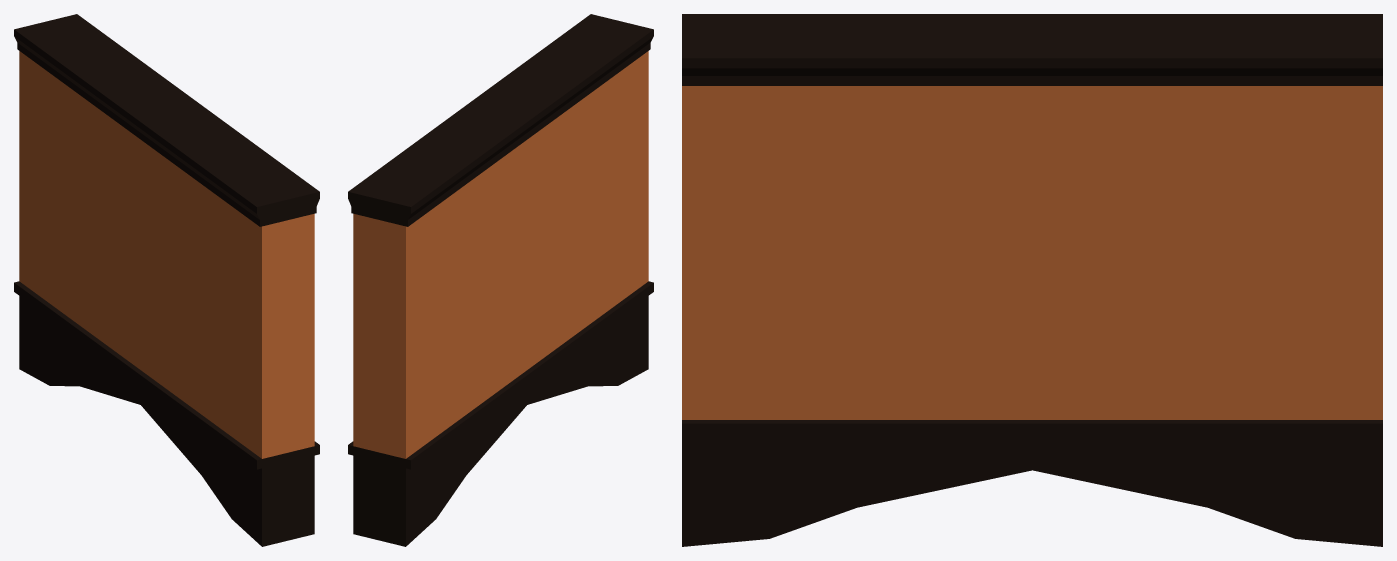
File: UpEntranceDoor_Final.fbx
3 renders of one model, left to right at view 1: azimuth 30°, elevation 25°; view 2: azimuth 150°, elevation 25°; view 3: azimuth 270°, elevation 25°, orthographic. The views are drawn at different scales.
Parts seen in each view (by area): view 1: S_WallEmpty.004; view 2: S_WallEmpty.004; view 3: S_WallEmpty.004.
Part boxes in pixels (box(x1,y1,x2,y2)): S_WallEmpty.004: box(14, 14, 319, 546); S_WallEmpty.004: box(348, 14, 653, 546); S_WallEmpty.004: box(682, 14, 1382, 546).
Bounding box in the file's own units: 0.5994 × 3.1 × 4.
